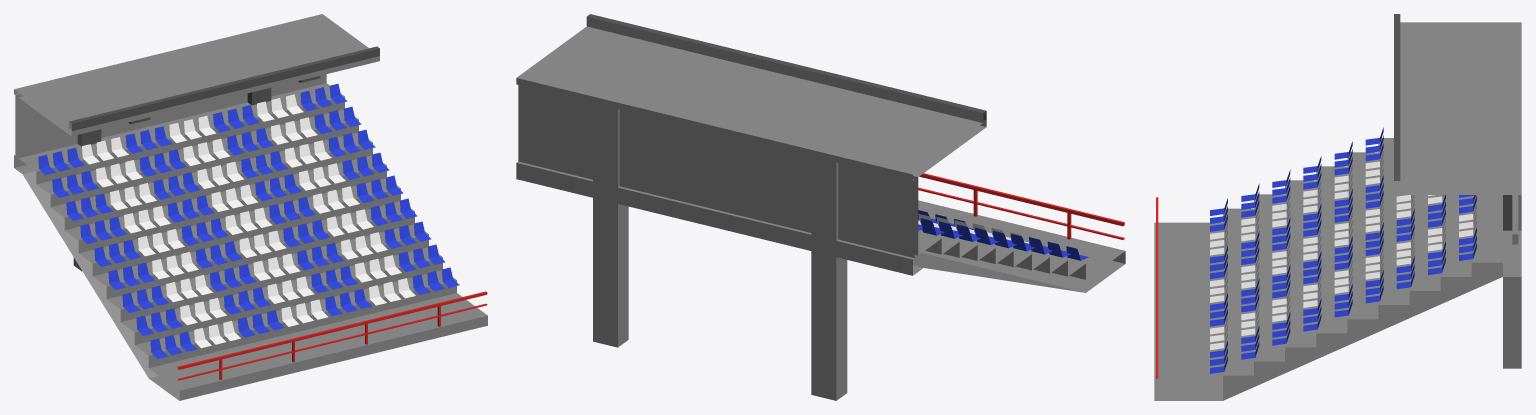
Rendered from tribune.fbx.
3 views of the same model, side by side, from view 1: azimuth 30°, elevation 25°; view 2: azimuth 150°, elevation 25°; view 3: azimuth 270°, elevation 25° (orthographic). The views are drawn at different scales.
Visible parts, largest first — view 1: Tribune_free; view 2: Tribune_free; view 3: Tribune_free.
Boxes of the visible parts, x1,y1,x2,y2 form: Tribune_free: (14, 14, 487, 400); Tribune_free: (516, 14, 1125, 400); Tribune_free: (1154, 14, 1521, 400).
Bounding box in the file's own units: 1270 × 780 × 1180.
